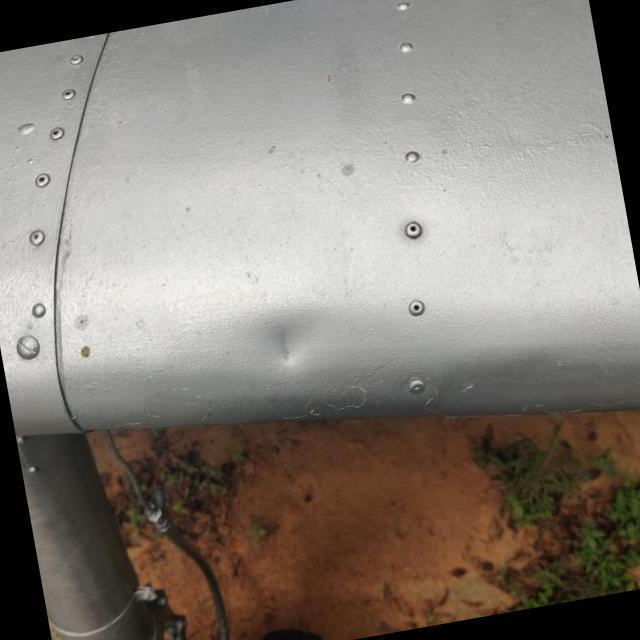Dent: (222, 279, 344, 397)
